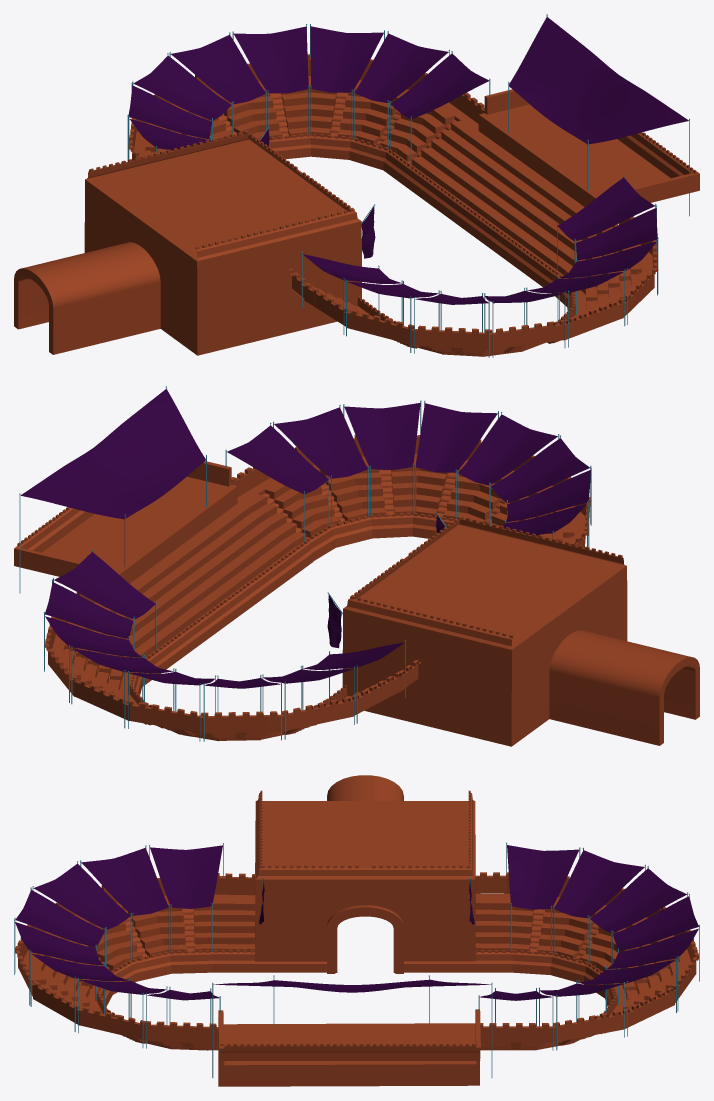
The model's file is tutorial_grounds_new.fbx.
3 renders of one model, top to bottom at view 1: azimuth 30°, elevation 25°; view 2: azimuth 150°, elevation 25°; view 3: azimuth 270°, elevation 25°, orthographic. The views are drawn at different scales.
Visible parts, largest first — view 1: entrance, flags, stands_3, stands_2, stands_1, poles1; view 2: entrance, flags, stands_3, stands_1, stands_2, poles1; view 3: entrance, flags, stands_3, stands_1, stands_2, poles1.
Part boxes in pixels (x1,y1,x2,y2): entrance: [14, 130, 381, 355]; flags: [128, 17, 688, 304]; stands_3: [383, 89, 699, 306]; stands_2: [128, 54, 431, 169]; stands_1: [301, 240, 658, 356]; poles1: [127, 14, 689, 357]; entrance: [325, 516, 699, 746]; flags: [21, 389, 590, 688]; stands_3: [14, 461, 335, 686]; stands_1: [290, 434, 590, 548]; stands_2: [44, 616, 406, 741]; poles1: [19, 386, 591, 741]; entrance: [207, 775, 513, 973]; flags: [15, 845, 698, 1000]; stands_3: [143, 1009, 555, 1086]; stands_1: [15, 873, 225, 1048]; stands_2: [504, 876, 698, 1049]; poles1: [14, 842, 699, 1077].
Bounding box in the file's own units: 184 × 42.04 × 189.
